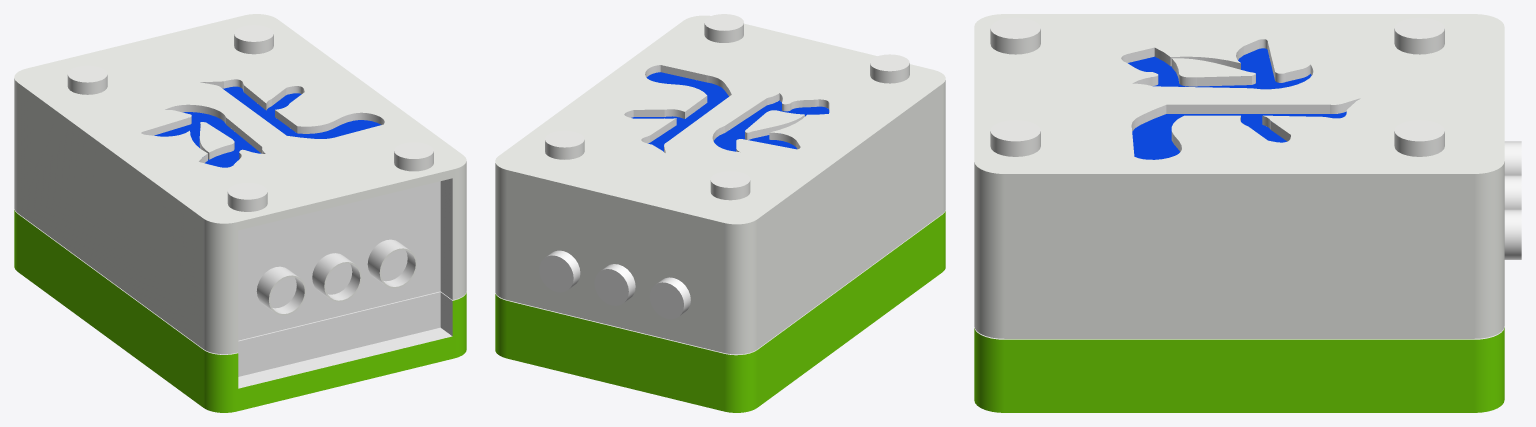
The model's file is tile-north.glb.
3 views of the same model, side by side, from view 1: azimuth 30°, elevation 25°; view 2: azimuth 150°, elevation 25°; view 3: azimuth 270°, elevation 25° (orthographic). The views are drawn at different scales.
Size of the model in its own units: 0.0375 by 0.0278 by 0.0542.
